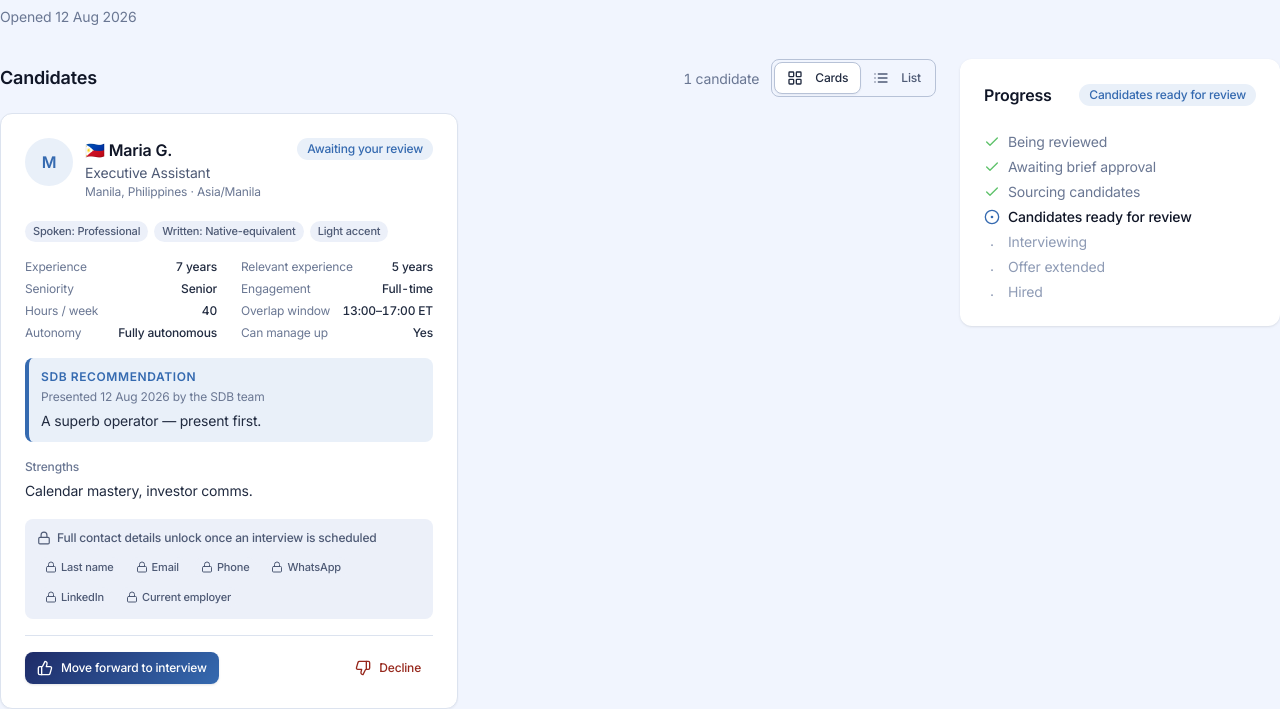
Test: client decisions › move forward: ONE primary action at presented → POST approve-for-interview (no body) → card shows approved
(page scrolled)
Check: the button "Request interview" is not shown
Click the button "Move forward to interview" at (122, 668), box [25, 652, 219, 684]
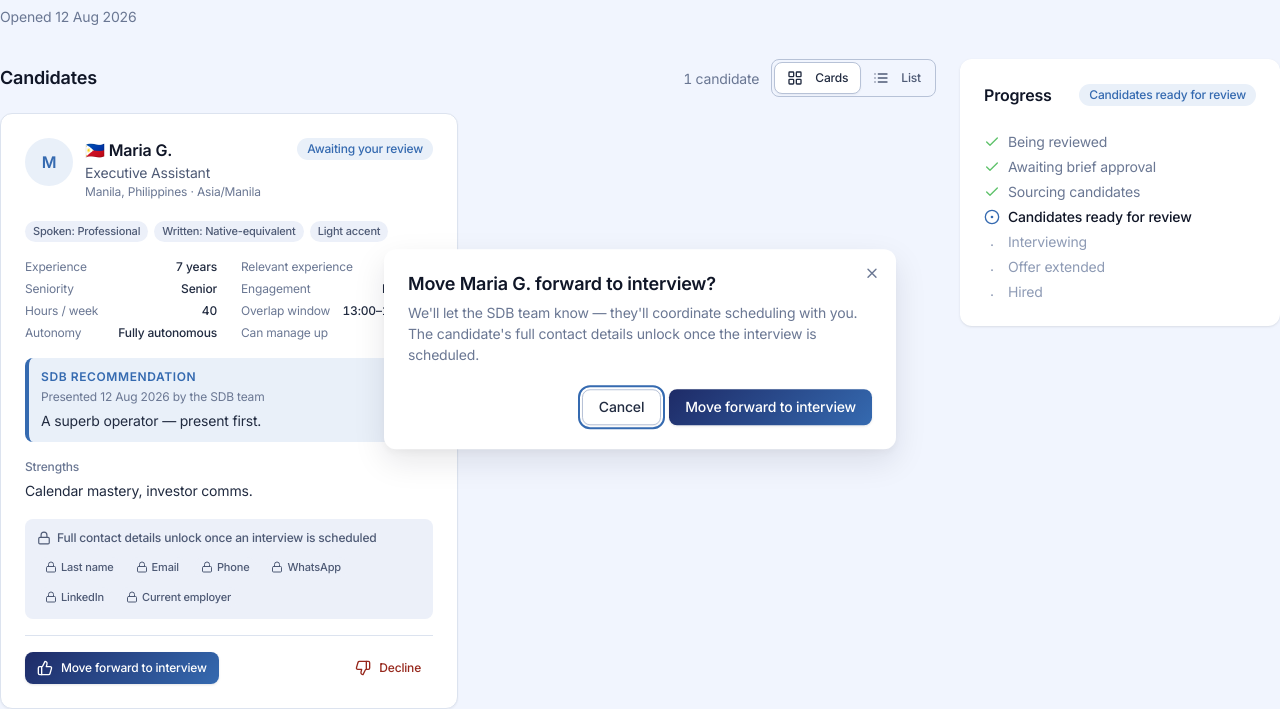
Check: the text "they'll coordinate scheduling with you" is shown, box [408, 304, 858, 363]
Click the button "Move forward to interview" at (771, 407), box [669, 389, 872, 425]
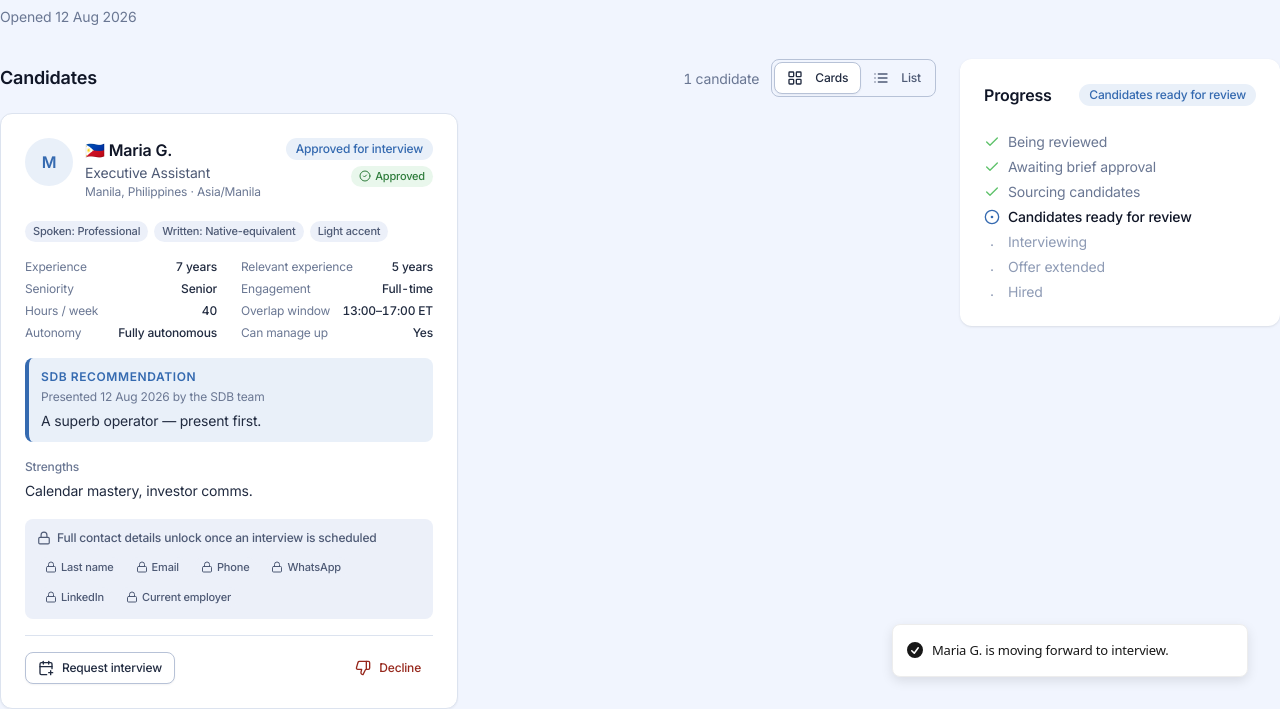
Check: the text "Approved for interview" is shown, box [286, 138, 433, 160]
